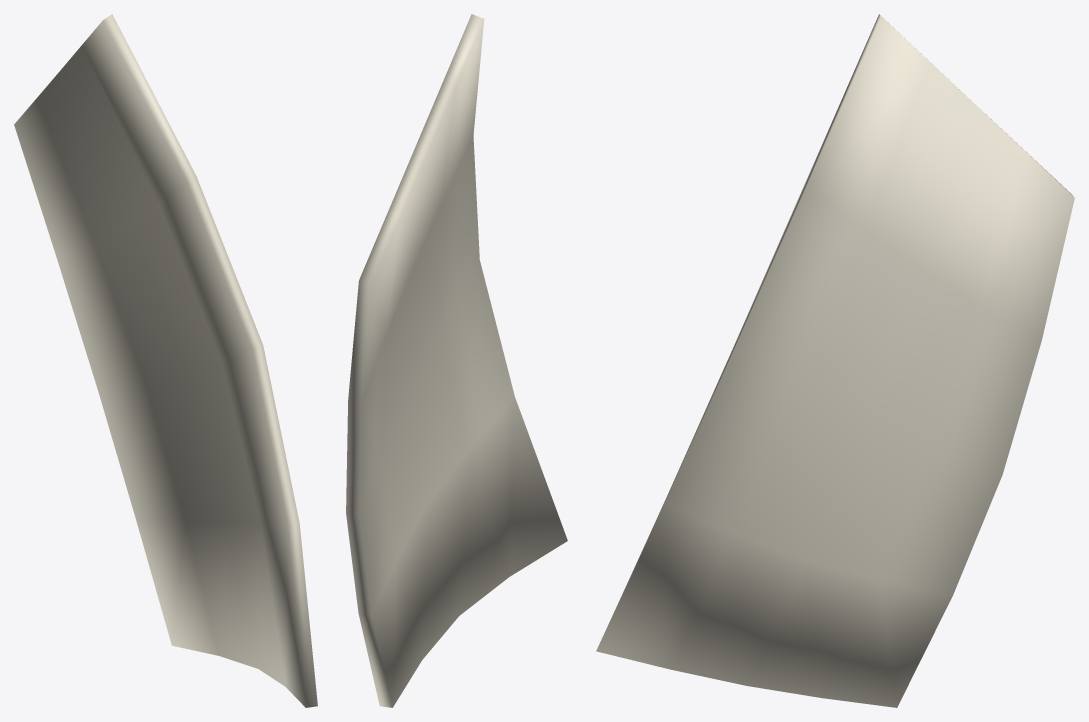
3 views of the same model, side by side, from view 1: azimuth 30°, elevation 25°; view 2: azimuth 150°, elevation 25°; view 3: azimuth 270°, elevation 25° (orthographic). The views are drawn at different scales.
Visible parts, largest first — view 1: ZA_e540fbdbe1b94471; view 2: ZA_e540fbdbe1b94471; view 3: ZA_e540fbdbe1b94471.
Boxes of the visible parts, x1,y1,x2,y2 form: ZA_e540fbdbe1b94471: [14, 14, 317, 707]; ZA_e540fbdbe1b94471: [346, 14, 567, 707]; ZA_e540fbdbe1b94471: [596, 14, 1074, 707].
Bounding box in the file's own units: 0.00453 × 0.0282 × 0.0187.
